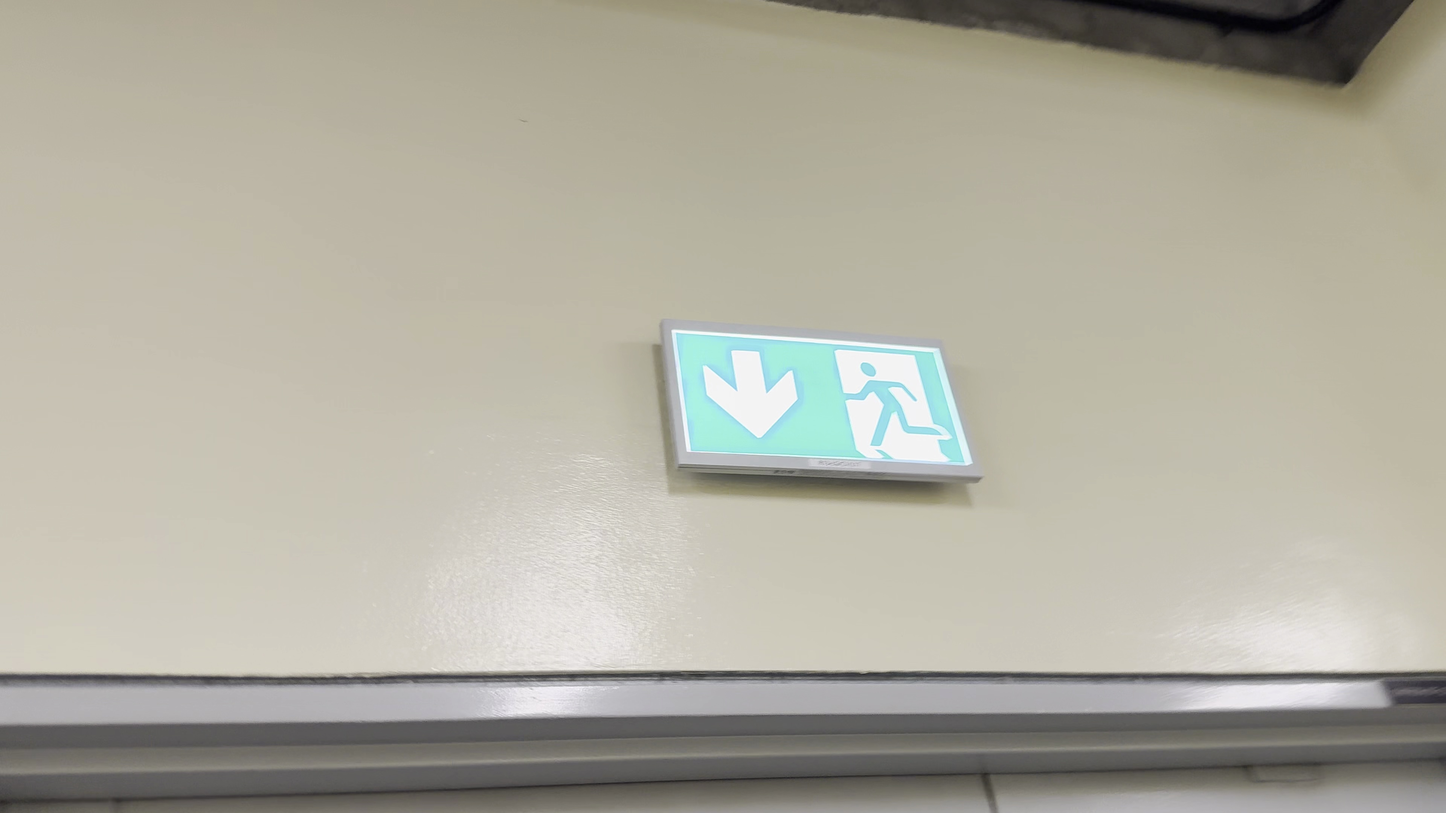emergency_exit: (658, 317, 984, 485)
